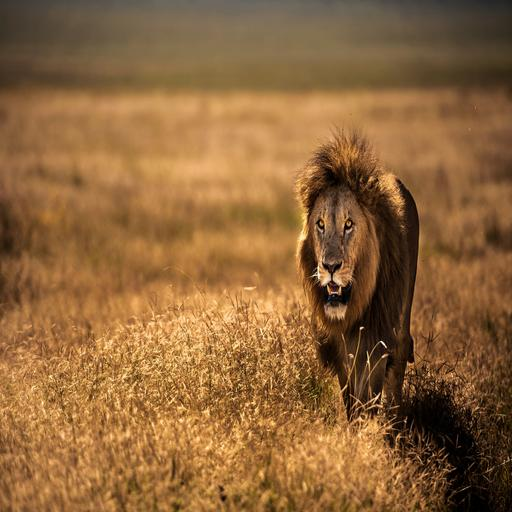Lion: (282, 130, 432, 438)
